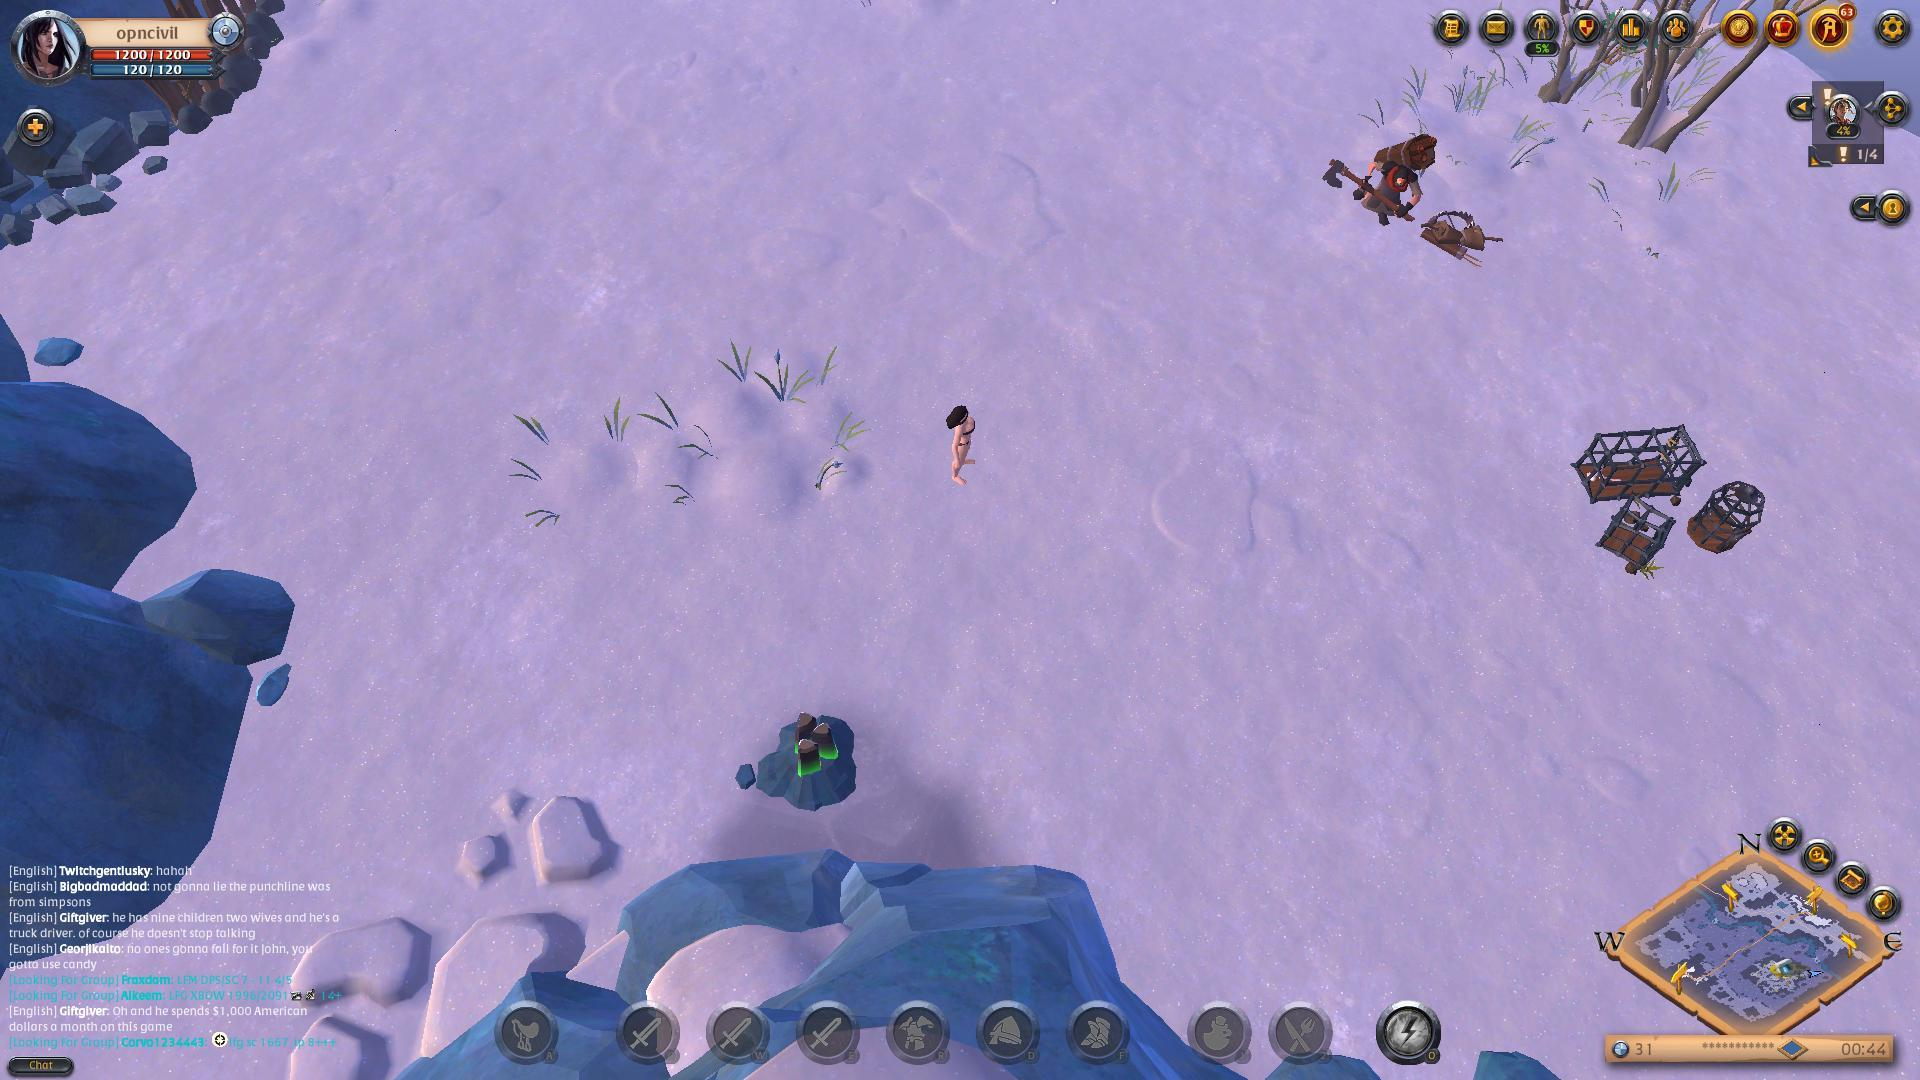mob: (1325, 120, 1444, 239)
tin_ore: (731, 711, 877, 812)
